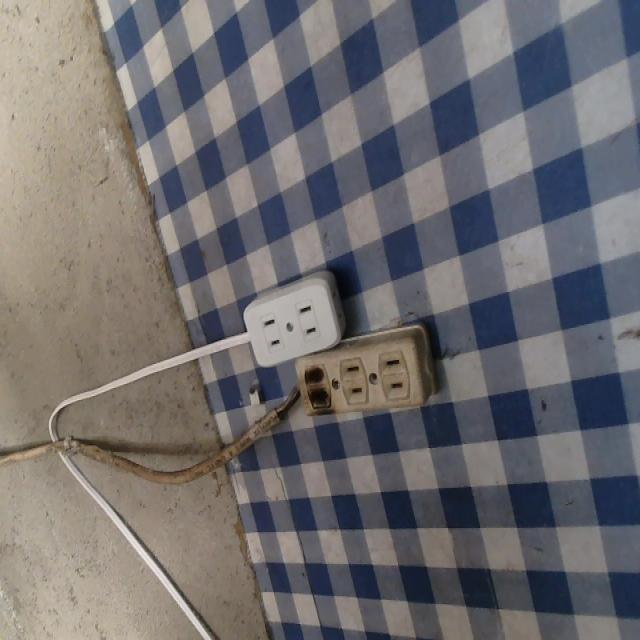-: (298, 356, 335, 417)
